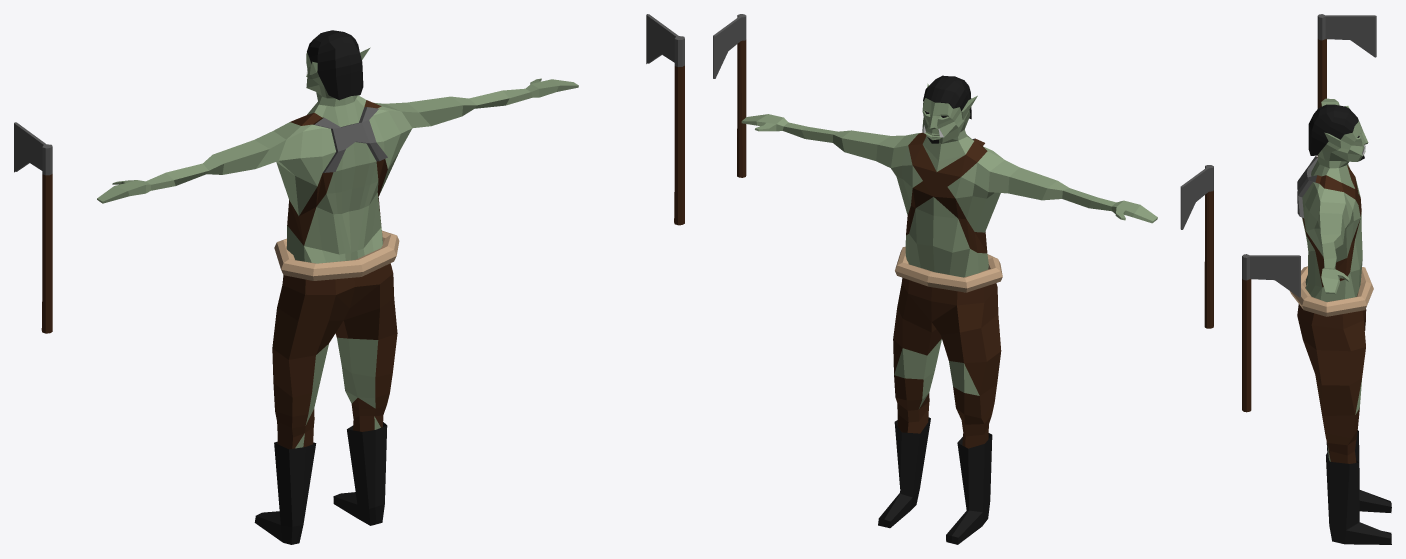
The model's file is barbarian_ork2.fbx.
The picture shows the model from 3 angles, left to right: view 1: azimuth 30°, elevation 25°; view 2: azimuth 150°, elevation 25°; view 3: azimuth 270°, elevation 25°; orthographic projection. The views are drawn at different scales.
Visible parts, largest first — view 1: body, pants, boots, axe2, axe1, Torus; view 2: body, pants, boots, axe2, axe1, Torus; view 3: body, pants, boots, axe2, axe1, Torus.
Part boxes in pixels (x1=…): body: x1=97, y1=30, x2=578, y2=448; pants: x1=272, y1=263, x2=397, y2=449; boots: x1=254, y1=422, x2=387, y2=544; axe2: x1=646, y1=14, x2=684, y2=225; axe1: x1=14, y1=122, x2=52, y2=333; Torus: x1=274, y1=230, x2=399, y2=280; body: x1=741, y1=75, x2=1157, y2=408; pants: x1=893, y1=277, x2=1001, y2=448; boots: x1=878, y1=417, x2=992, y2=544; axe2: x1=713, y1=14, x2=746, y2=177; axe1: x1=1180, y1=165, x2=1213, y2=328; Torus: x1=895, y1=246, x2=1002, y2=292; body: x1=1297, y1=98, x2=1368, y2=461; pants: x1=1297, y1=304, x2=1366, y2=463; boots: x1=1326, y1=430, x2=1391, y2=544; axe2: x1=1242, y1=254, x2=1300, y2=412; axe1: x1=1317, y1=14, x2=1376, y2=155; Torus: x1=1290, y1=266, x2=1373, y2=316.
Bounding box in the file's own units: 305 × 246 × 79.61.
